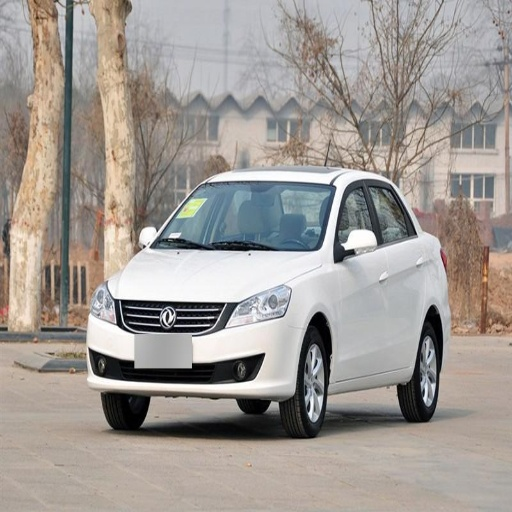front_bumper: (89, 298, 306, 402)
front_glass: (150, 181, 335, 251)
front_left_door: (335, 179, 389, 380)
